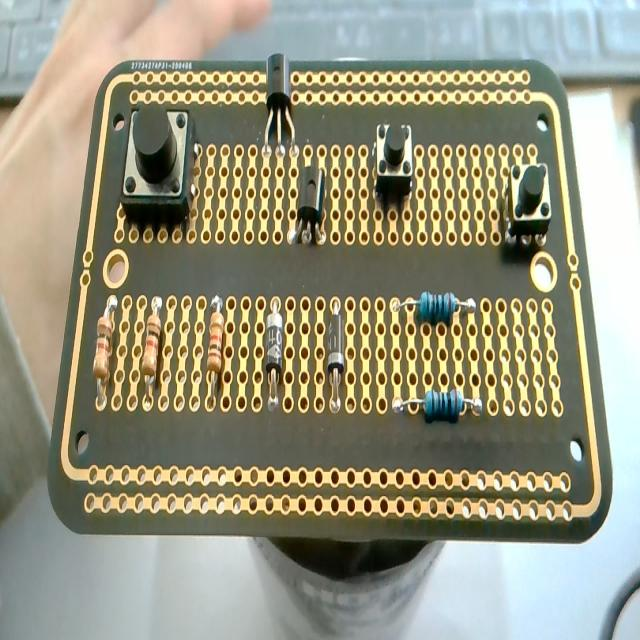diode: (326, 299, 345, 416), (265, 298, 284, 412)
resistor: (393, 290, 477, 327), (394, 389, 482, 422), (93, 296, 117, 398), (206, 294, 225, 408), (142, 297, 162, 393)
switch: (120, 105, 197, 232), (506, 160, 552, 247), (374, 121, 414, 207)
transistor: (264, 52, 295, 160), (290, 163, 326, 247)
